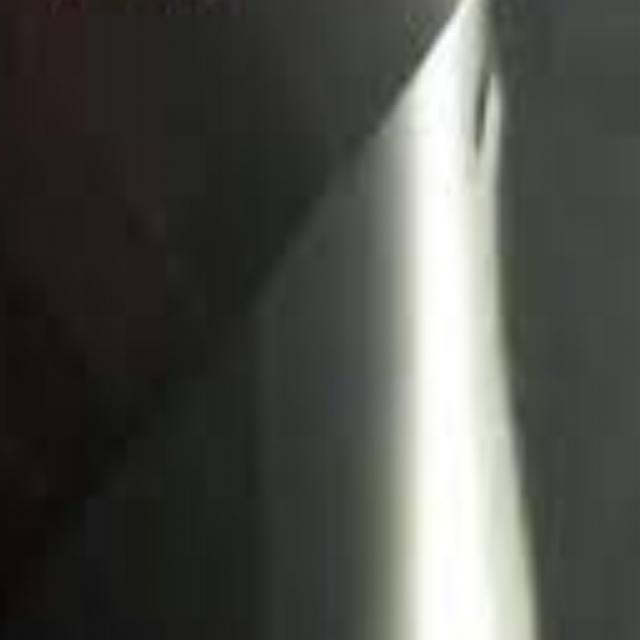dents: (461, 32, 564, 238)
